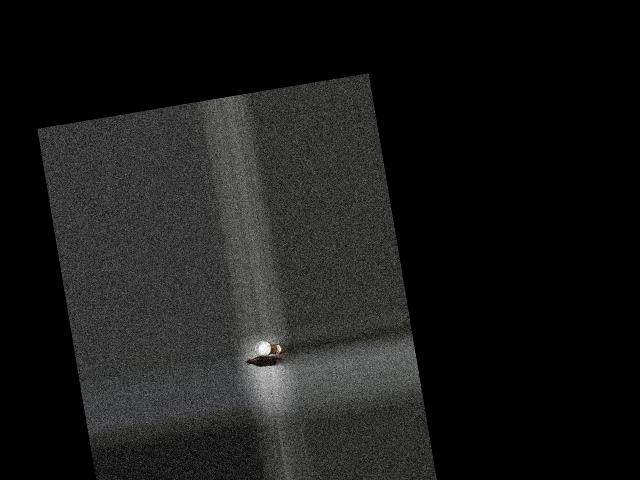beer: (245, 353, 277, 370)
